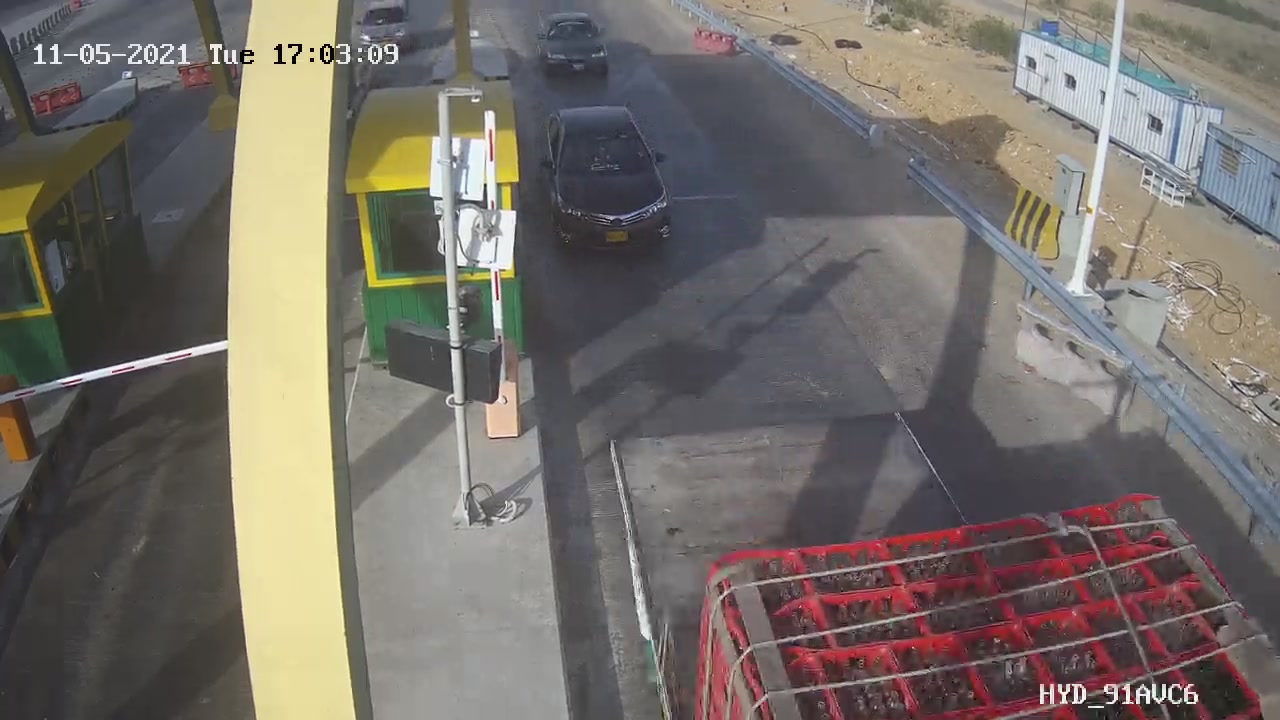F1: (527, 98, 692, 272)
